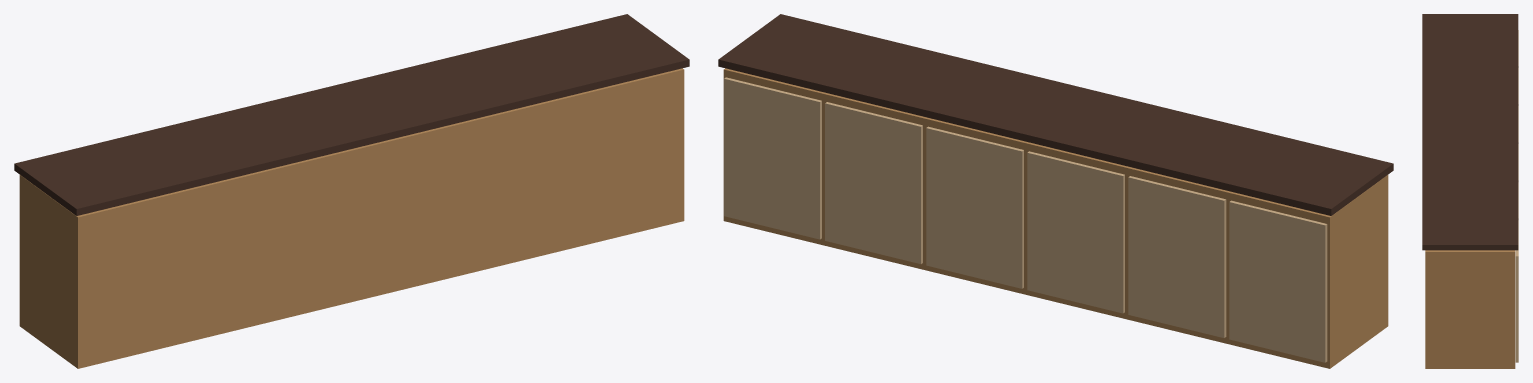
The picture shows the model from 3 angles, left to right: view 1: azimuth 30°, elevation 25°; view 2: azimuth 150°, elevation 25°; view 3: azimuth 270°, elevation 25°; orthographic projection. The views are drawn at different scales.
Visible parts, largest first — view 1: mueble_cocina_sur; view 2: mueble_cocina_sur; view 3: mueble_cocina_sur.
Part boxes in pixels (x1,y1,x2,y2): mueble_cocina_sur: (14,14,689,368); mueble_cocina_sur: (718,14,1393,368); mueble_cocina_sur: (1422,14,1518,368).
Size of the model in its own units: 3.64 by 0.642 by 0.92.
